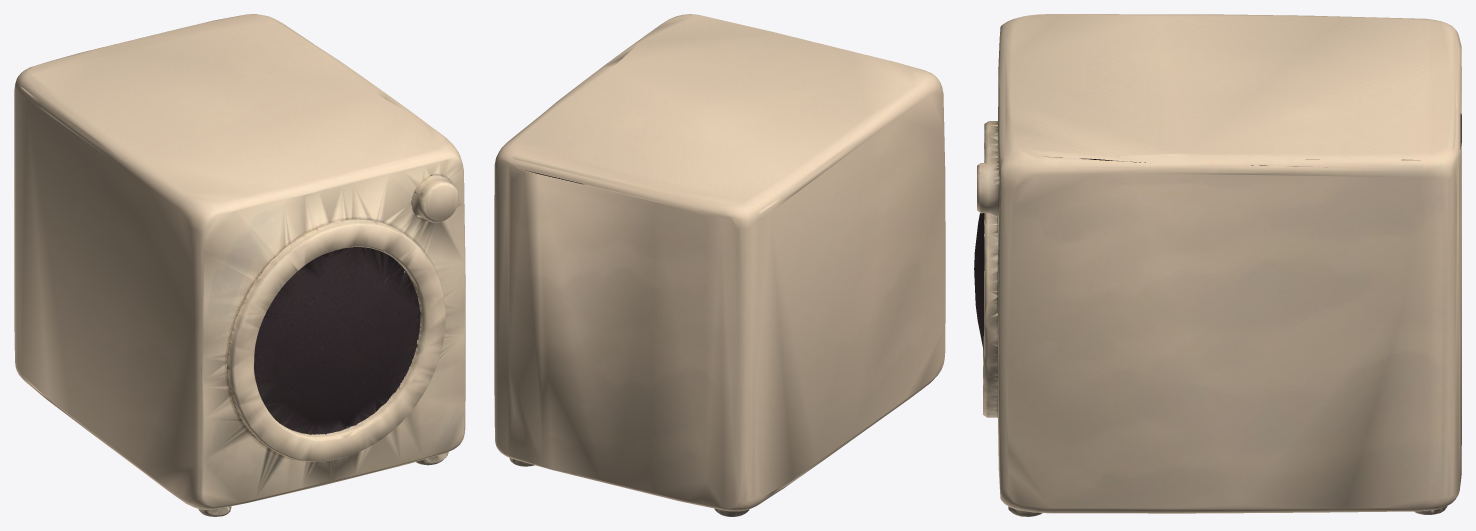
File: dryer.glb
The picture shows the model from 3 angles, left to right: view 1: azimuth 30°, elevation 25°; view 2: azimuth 150°, elevation 25°; view 3: azimuth 270°, elevation 25°; orthographic projection. The views are drawn at different scales.
Parts seen in each view (by area): view 1: dryer; view 2: dryer; view 3: dryer.
Part boxes in pixels (x1,y1,x2,y2): dryer: (14, 14, 465, 516); dryer: (494, 14, 945, 516); dryer: (974, 14, 1461, 516).
Size of the model in its own units: 0.7782 by 0.865 by 1.05.
Materials: 1 (1 with a texture image).
